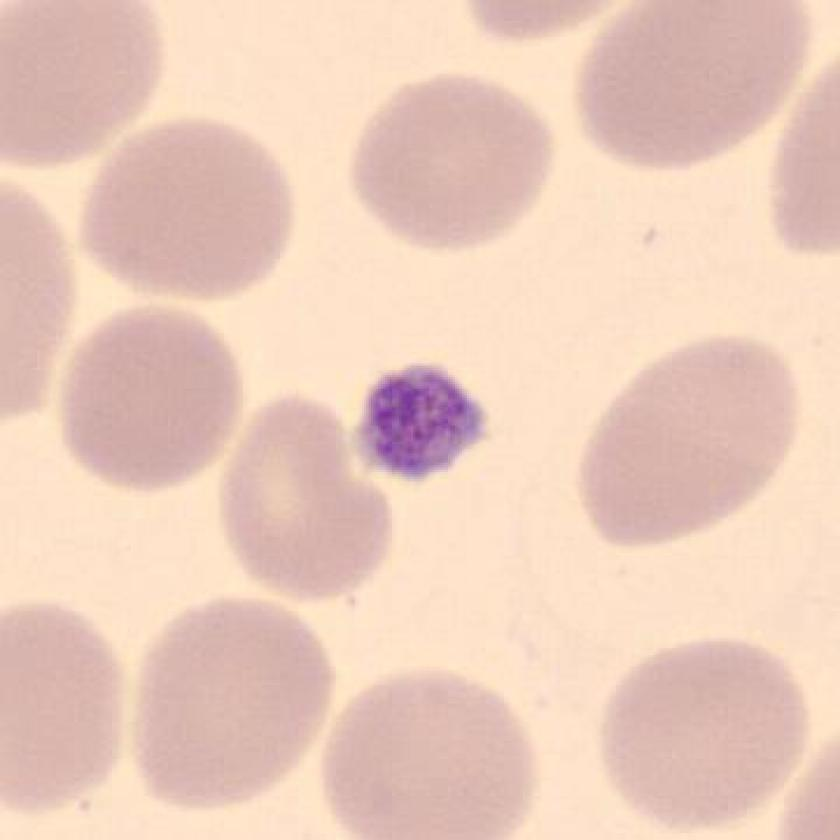platelets: (353, 351, 496, 497)
